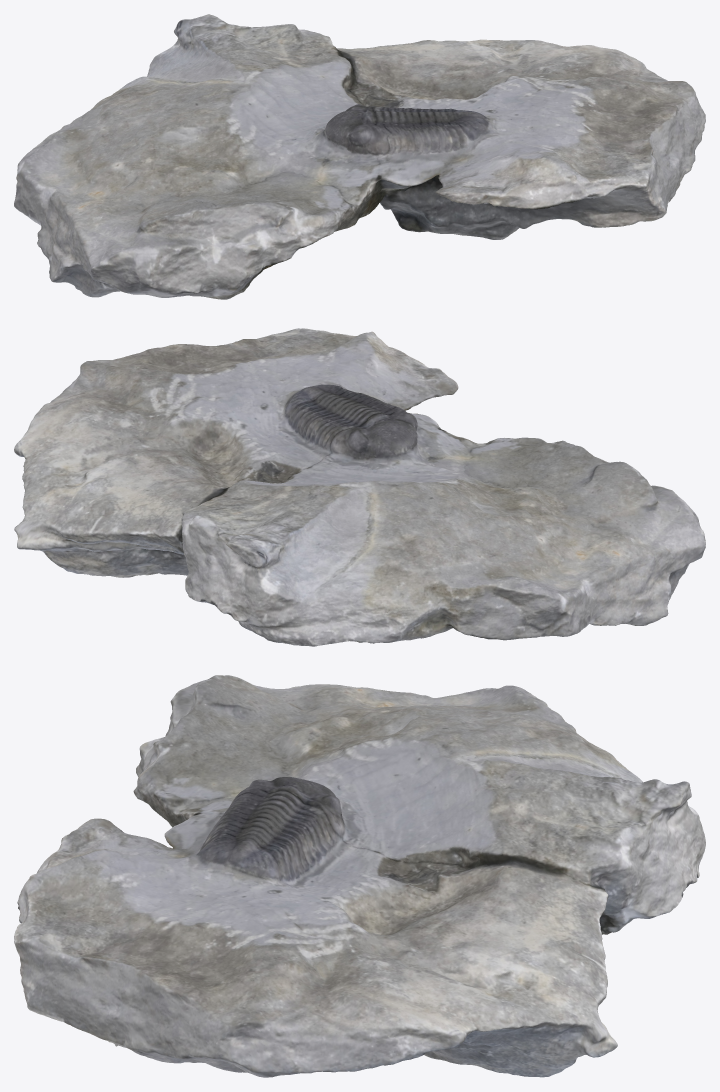
File: trilobite_eldredgeops_rana_pri_49811.glb
3 views of the same model, one above another, from view 1: azimuth 30°, elevation 25°; view 2: azimuth 150°, elevation 25°; view 3: azimuth 270°, elevation 25° (orthographic). The views are drawn at different scales.
Visible parts, largest first — view 1: Object_2, Object_3; view 2: Object_2, Object_3; view 3: Object_3, Object_2.
Boxes of the visible parts, x1,y1,x2,y2 form: Object_2: (14,14,695,299); Object_3: (214,16,705,239); Object_2: (14,384,705,646); Object_3: (14,328,473,604); Object_3: (14,777,688,1077); Object_2: (30,675,705,1077).
Bounding box in the file's own units: 2.27 × 0.4722 × 1.71.
Materials: 1 (1 with a texture image).
